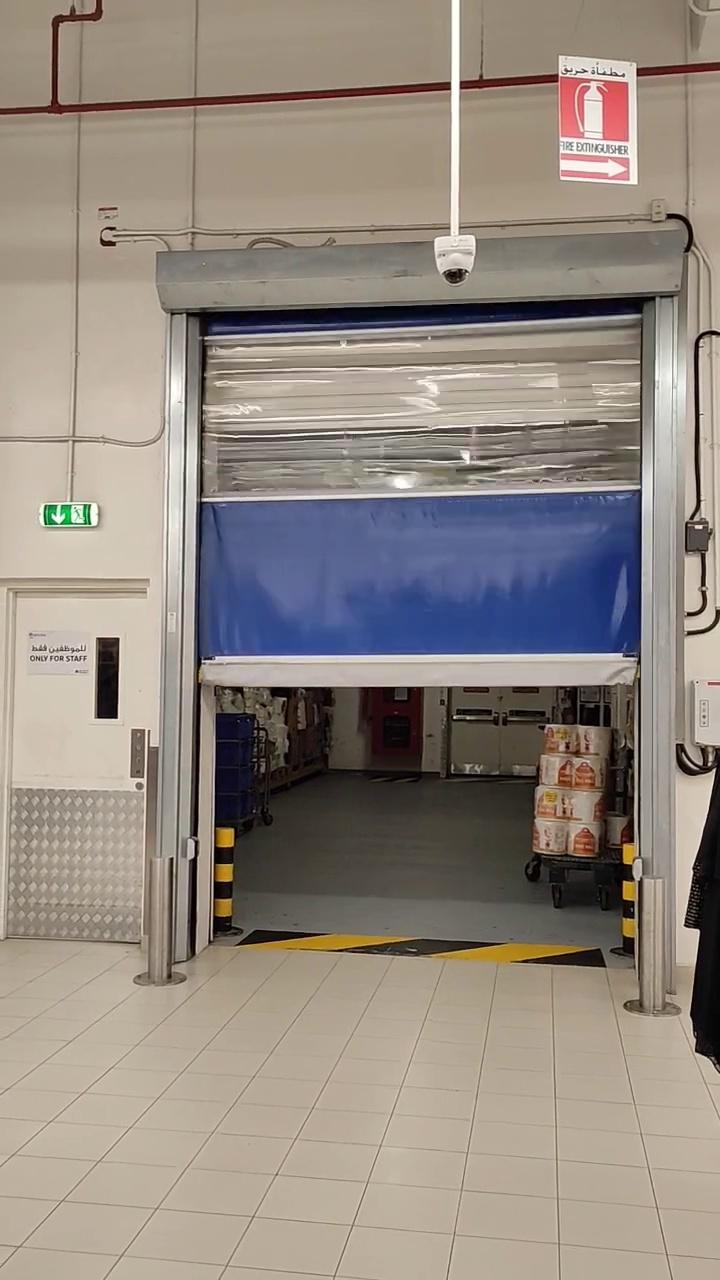Strip: (248, 928, 611, 965)
